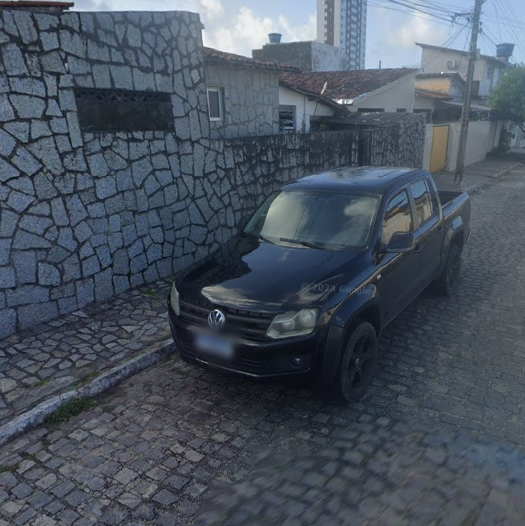car: (166, 165, 479, 412)
